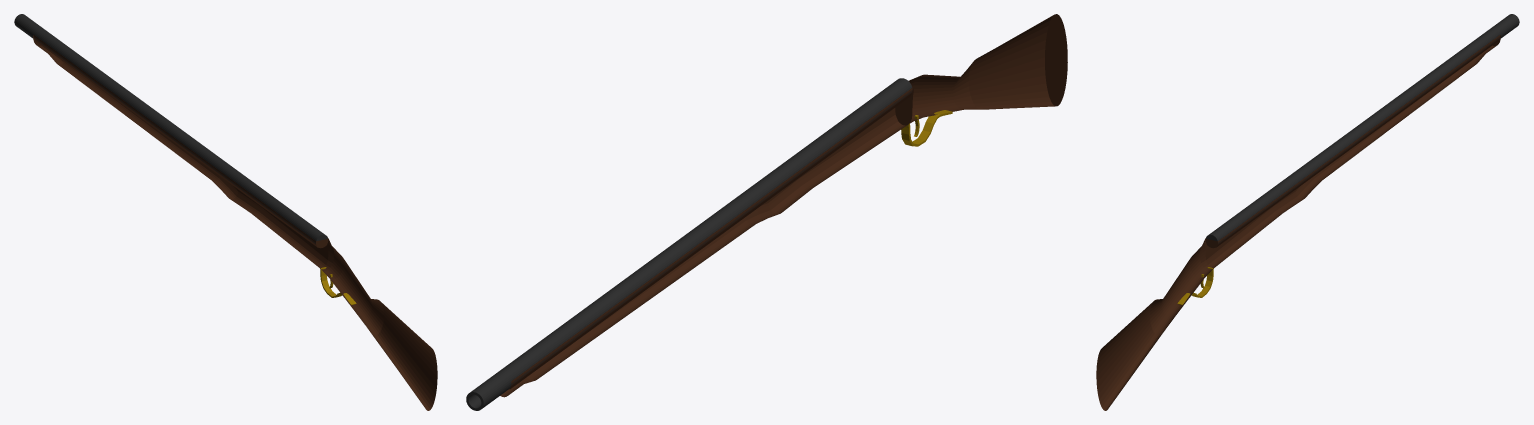
File: musket.glb
3 renders of one model, left to right at view 1: azimuth 30°, elevation 25°; view 2: azimuth 150°, elevation 25°; view 3: azimuth 330°, elevation 25°, orthographic. The views are drawn at different scales.
Parts seen in each view (by area): view 1: Stock, Barrel; view 2: Stock, Barrel, Trigger Guarg; view 3: Stock, Barrel.
Part boxes in pixels (box(x1,y1,x2,y2)): Stock: box(33, 35, 437, 410); Barrel: box(14, 14, 327, 243); Stock: box(500, 14, 1067, 397); Barrel: box(466, 78, 912, 410); Trigger Guarg: box(901, 110, 952, 146); Stock: box(1096, 35, 1500, 410); Barrel: box(1206, 14, 1519, 243).
Size of the model in its own units: 0.0446 by 0.2581 by 1.96.
